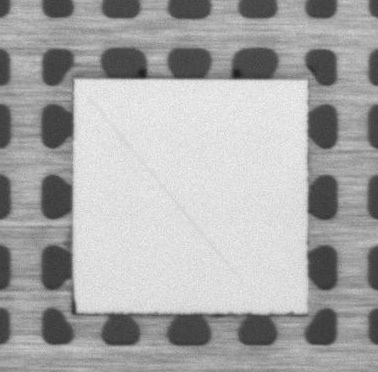DIE_CRACK: (90, 96, 239, 269)
